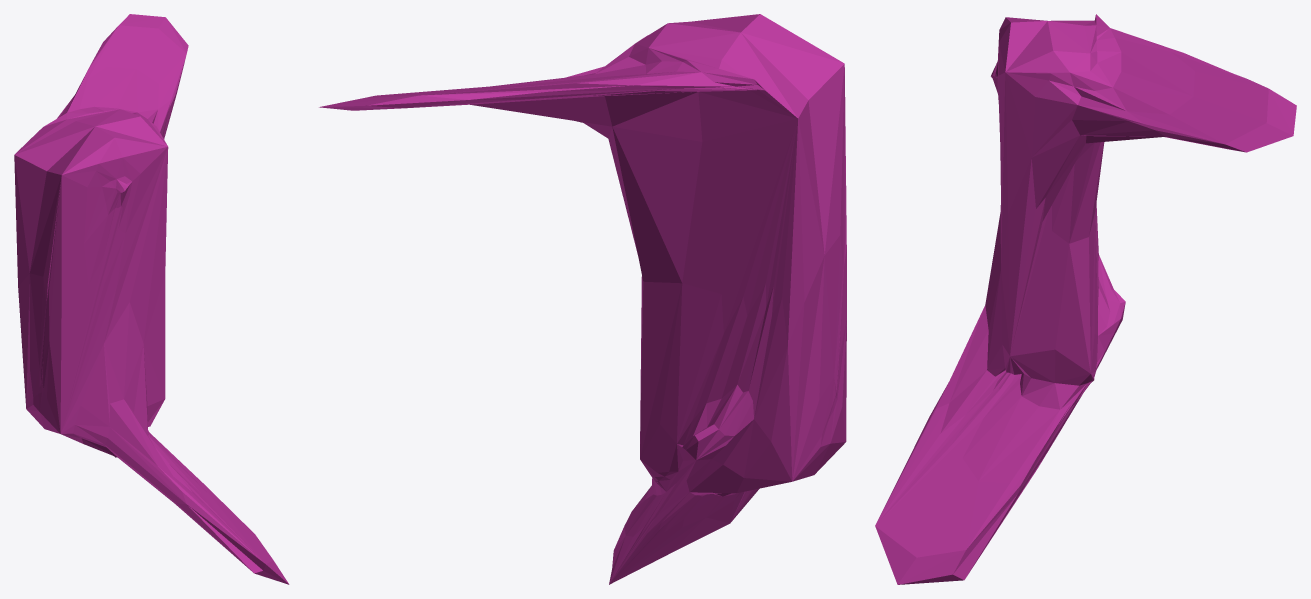
3 views of the same model, side by side, from view 1: azimuth 30°, elevation 25°; view 2: azimuth 150°, elevation 25°; view 3: azimuth 270°, elevation 25° (orthographic). The views are drawn at different scales.
Visible parts, largest first — view 1: 549_Cube.2215; view 2: 549_Cube.2215; view 3: 549_Cube.2215.
Boxes of the visible parts, box(x1,y1,x2,y2) form: 549_Cube.2215: box(14, 14, 289, 584); 549_Cube.2215: box(319, 14, 846, 584); 549_Cube.2215: box(875, 14, 1296, 584).
Bounding box in the file's own units: 10.24 × 17.71 × 13.7.
